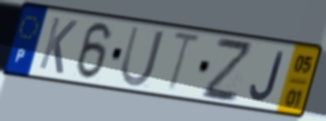6: (72, 20, 114, 82)
J: (248, 49, 287, 103)
K: (36, 14, 80, 77)
T: (164, 29, 204, 96)
U: (117, 24, 167, 90)
Z: (200, 34, 254, 105)
